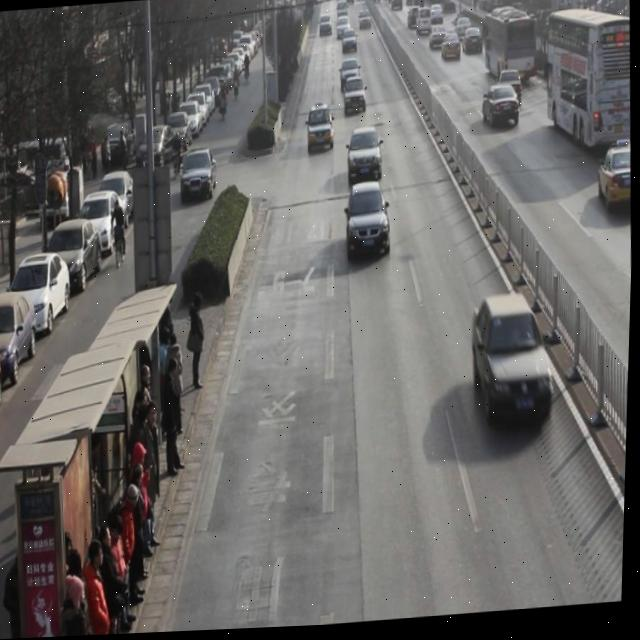car: (471, 296, 559, 437), (346, 183, 393, 266), (597, 149, 633, 217), (347, 130, 385, 189), (481, 88, 521, 136), (307, 105, 336, 155), (497, 72, 524, 113), (342, 78, 367, 118), (339, 60, 361, 96), (441, 35, 462, 67), (462, 30, 483, 60)
van: (542, 8, 634, 160), (481, 11, 538, 93)
